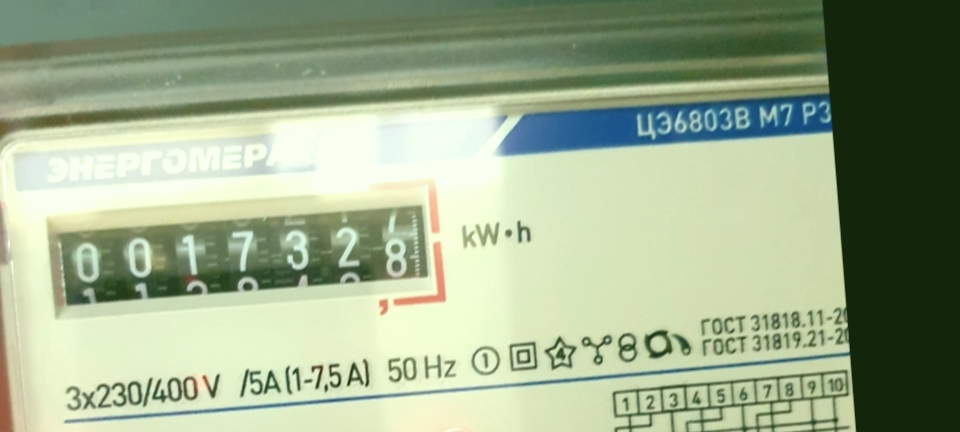0: (70, 239, 105, 285), (123, 232, 156, 280)
1: (177, 230, 202, 277)
2: (330, 223, 363, 270)
3: (281, 226, 312, 272)
7: (227, 227, 258, 275)
8: (380, 235, 409, 279)
screen: (36, 178, 454, 338)
